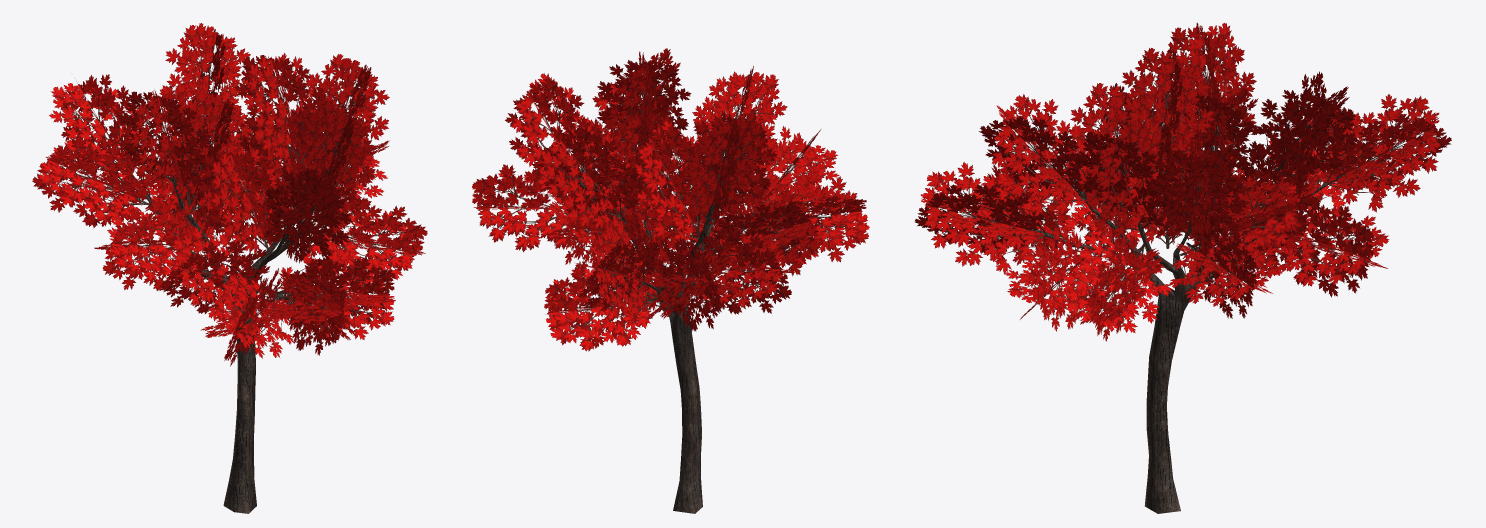
The model's file is Arce Tree.FBX.
The picture shows the model from 3 angles, left to right: view 1: azimuth 30°, elevation 25°; view 2: azimuth 150°, elevation 25°; view 3: azimuth 270°, elevation 25°; orthographic projection. The views are drawn at different scales.
Parts seen in each view (by area): view 1: Plane012; view 2: Plane012; view 3: Plane012.
Part boxes in pixels (bbox=[...]): Plane012: bbox=[32, 23, 427, 513]; Plane012: bbox=[472, 48, 869, 513]; Plane012: bbox=[915, 22, 1451, 513].
Size of the model in its own units: 292 by 368 by 387.
